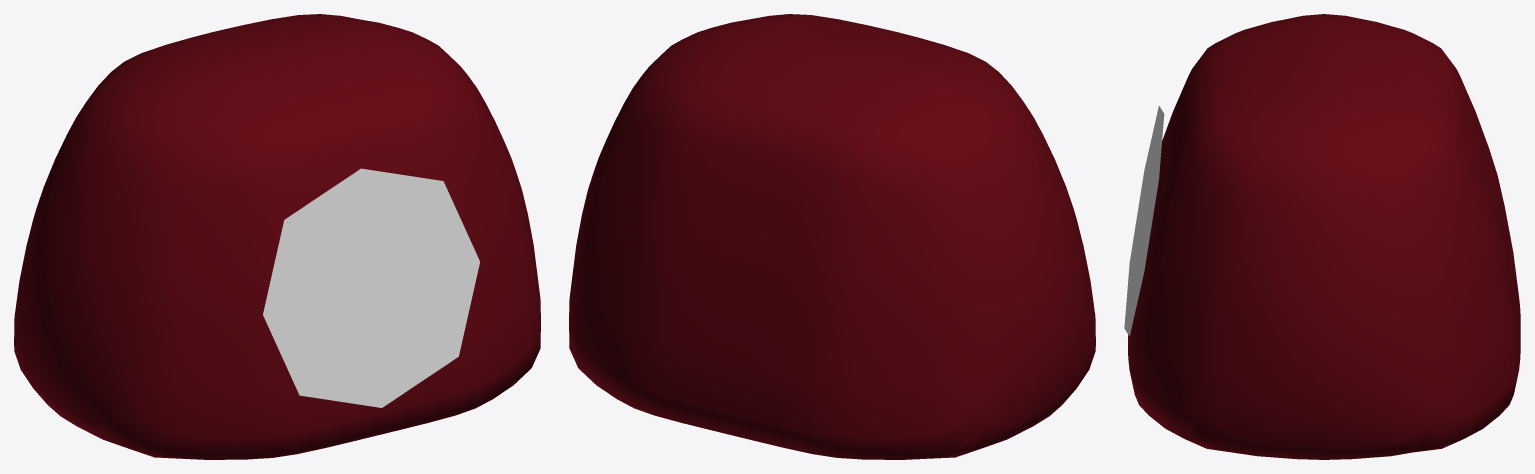
The model's file is red.fbx.
The picture shows the model from 3 angles, left to right: view 1: azimuth 30°, elevation 25°; view 2: azimuth 150°, elevation 25°; view 3: azimuth 270°, elevation 25°; orthographic projection. The views are drawn at different scales.
Parts seen in each view (by area): view 1: Cube; view 2: Cube; view 3: Cube.
Part boxes in pixels (bbox=[...]): Cube: bbox=[14, 14, 540, 459]; Cube: bbox=[569, 14, 1095, 459]; Cube: bbox=[1124, 14, 1520, 459].
Bounding box in the file's own units: 290 × 193 × 225.
